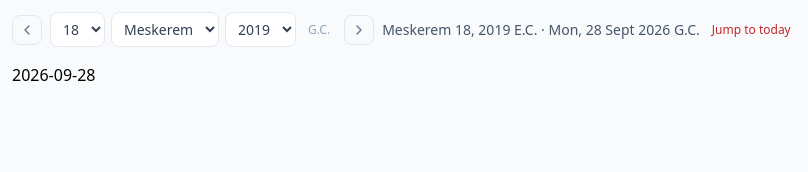
Test case: DateNav is E.C.-first and stores the Gregorian key › Next school day moves Meskerem 18 -> 19 -> 20 (real dates 28 -> 29 -> 30 Sep) and skips the weekend
The width and height of the screenshot is (808, 172).
What coordinates should you click on to do the following:
click the button named "Next school day"
I would click on:
 (359, 30)
Its box is [344, 14, 374, 44].
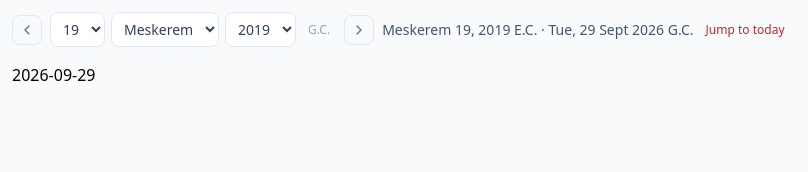
Expected: the text with test id "key" reads "2026-09-29", [12, 64, 96, 86]
Expected: the dropdown named "Ethiopian day" shows "19", [50, 12, 105, 47]
What coordinates should you click on to do the following:
click the button named "Next school day"
I would click on:
 (359, 30)
Its box is [344, 14, 374, 44].
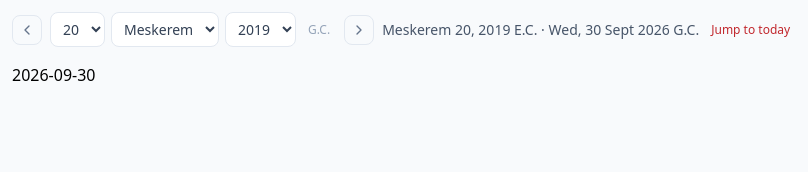
Expected: the text with test id "key" reads "2026-09-30", [12, 64, 96, 86]
Expected: the dropdown named "Ethiopian day" shows "20", [50, 12, 105, 47]
What coordinates should you click on to do the following:
click the button named "Next school day"
I would click on:
 (359, 30)
Its box is [344, 14, 374, 44].
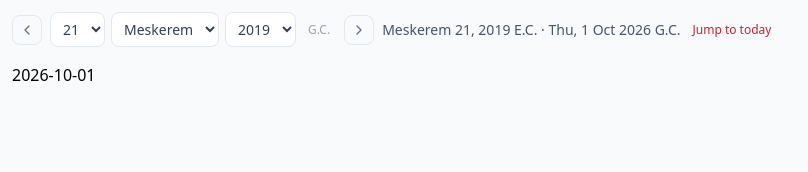
What coordinates should you click on to do the following:
click the button named "Next school day"
I would click on:
 (359, 30)
Its box is [344, 14, 374, 44].
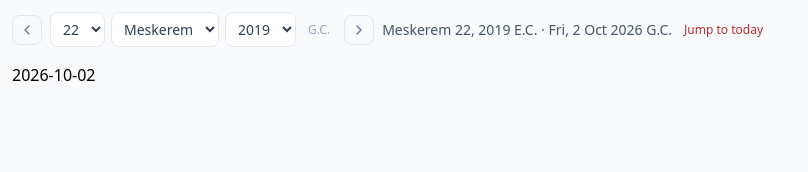
What coordinates should you click on to do the following:
click the button named "Next school day"
I would click on:
 (359, 30)
Its box is [344, 14, 374, 44].
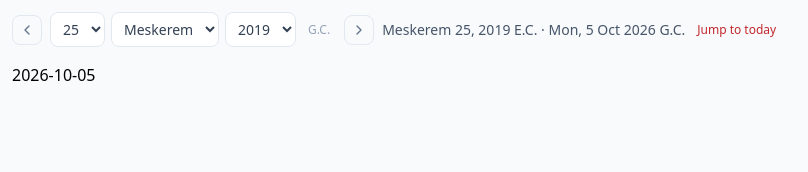
Expected: the text with test id "key" reads "2026-10-05", [12, 64, 96, 86]
Expected: the dropdown named "Ethiopian day" shows "25", [50, 12, 105, 47]
